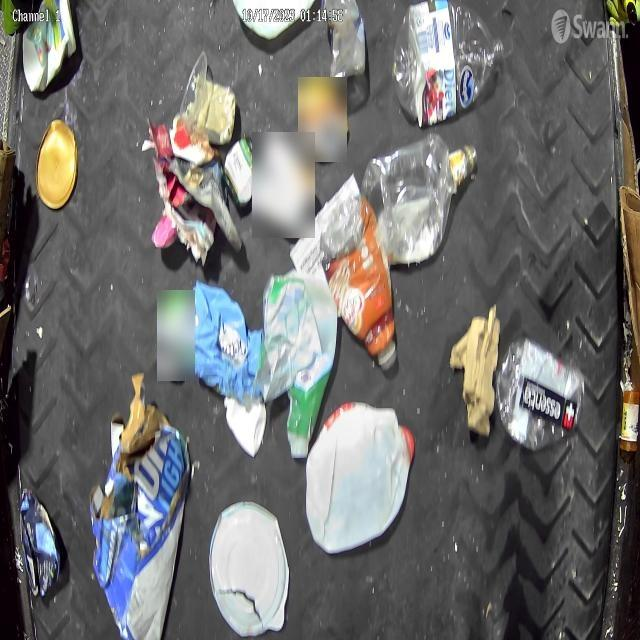milk_jug: (306, 402, 415, 555)
plastic_bottle: (392, 5, 504, 126)
